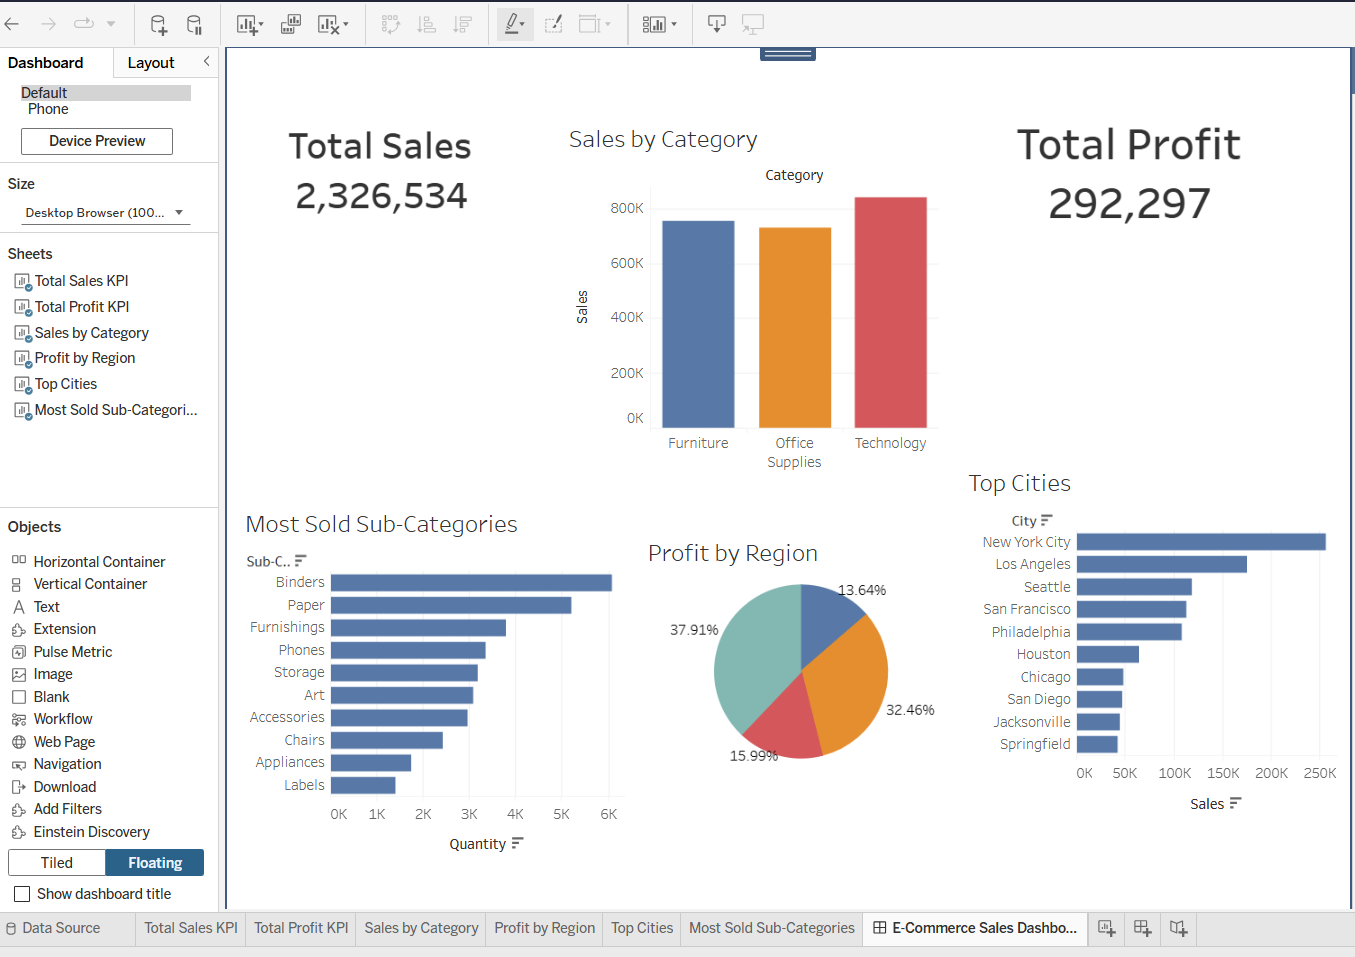

This screenshot's page, from the dashboard's own definition file:
{"tool":"tableau","page":{"name":"E-Commerce Sales Dashboard","canvas":[1000,800],"ordinal":0},"visuals":[{"type":"worksheet","title":"Total Sales KPI","mark":"Automatic","box":[6,20,262,174]},{"type":"worksheet","title":"Total Profit KPI","mark":"Automatic","box":[667,51,270,118]},{"type":"worksheet","title":"Sales by Category","mark":"Automatic","rows":["Sales"],"cols":["Category"],"box":[300,60,333,318]},{"type":"worksheet","title":"Top Cities","mark":"Automatic","rows":["City"],"cols":["Sales"],"box":[655,366,333,371]},{"type":"worksheet","title":"Most Sold Sub-Categories","mark":"Automatic","rows":["Sub-Category"],"cols":["Quantity"],"box":[12,402,342,381]},{"type":"worksheet","title":"Profit by Region","mark":"Pie","box":[370,428,281,211]}]}

Visuals, with their boxes on the page's 1000x800 design canvas (x1, y1, x2, y2). These are canvas units, not pixel positions in the 1355x957 screenshot, which may show the page scaled, cropped or inside an application window:
"Total Sales KPI" worksheet: <region>6, 20, 268, 194</region>
"Total Profit KPI" worksheet: <region>667, 51, 937, 169</region>
"Sales by Category" worksheet: <region>300, 60, 633, 378</region>
"Top Cities" worksheet: <region>655, 366, 988, 737</region>
"Most Sold Sub-Categories" worksheet: <region>12, 402, 354, 783</region>
"Profit by Region" worksheet (Pie marks): <region>370, 428, 651, 639</region>
